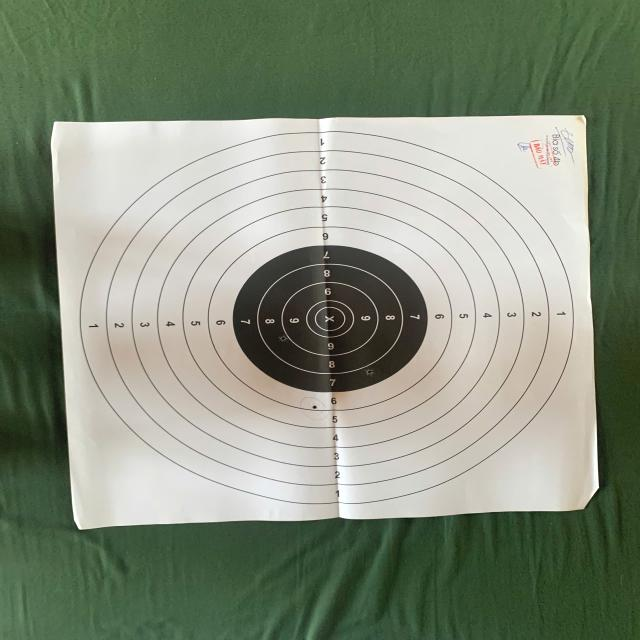bullet: (368, 368, 372, 376), (280, 336, 284, 340), (312, 405, 316, 409)
target: (52, 114, 596, 528)
